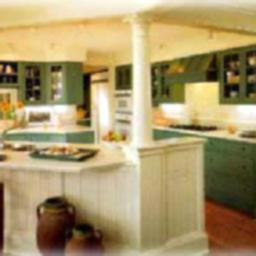Otro Obstaculo: (32, 198, 75, 253), (64, 217, 103, 255)
